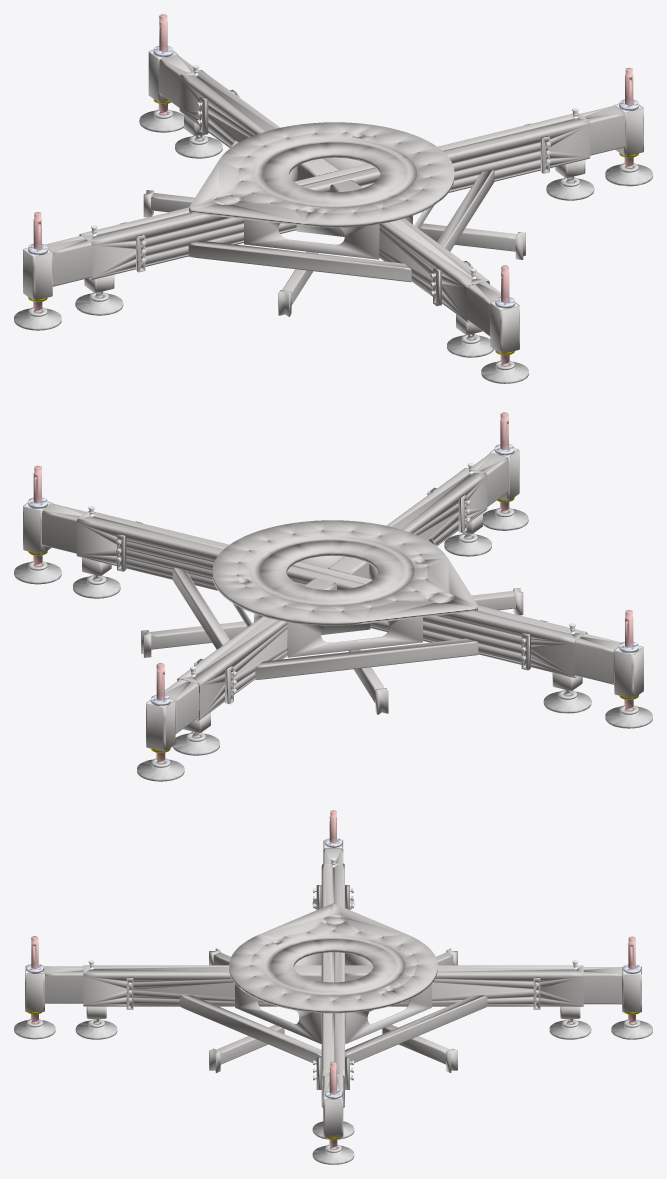
The model's file is TJA_00_FIX_PLATFORM.glb.
3 renders of one model, top to bottom at view 1: azimuth 30°, elevation 25°; view 2: azimuth 150°, elevation 25°; view 3: azimuth 270°, elevation 25°, orthographic. The views are drawn at different scales.
Visible parts, largest first — view 1: object 9, object 17, object 16, object 10, object 4, object 52, object 12, object 14, Body9, object 82, object 81, object 51 (+13 smaller); view 2: object 9, object 17, object 10, object 16, object 3, object 53, object 12, object 14, object 2, object 80, object 81, object 48 (+13 smaller); view 3: object 9, object 10, object 16, object 17, Body9, object 2, object 55, object 54, object 13, object 11, object 83, object 80 (+8 smaller).
Boxes of the visible parts, box(x1,y1,x2,y2) form: object 9: box(189, 122, 454, 227); object 17: box(79, 112, 590, 279); object 16: box(330, 180, 489, 322); object 10: box(179, 70, 338, 180); object 4: box(188, 240, 411, 282); object 52: box(244, 219, 379, 259); object 12: box(45, 236, 91, 286); object 14: box(580, 105, 624, 155); Body9: box(437, 169, 494, 251); object 82: box(490, 301, 519, 353); object 81: box(23, 248, 52, 300); object 51: box(419, 223, 516, 251); object 9: box(212, 520, 477, 625); object 17: box(76, 510, 587, 677); object 10: box(177, 578, 336, 720); object 16: box(328, 468, 487, 578); object 3: box(255, 638, 478, 680); object 53: box(287, 617, 422, 657); object 12: box(575, 634, 621, 684); object 14: box(42, 503, 86, 553); object 2: box(172, 567, 229, 649); object 80: box(146, 699, 175, 751); object 81: box(614, 646, 643, 698); object 48: box(150, 621, 247, 649); object 9: box(229, 903, 437, 1013); object 10: box(345, 965, 583, 1006); object 16: box(83, 965, 321, 1006); object 17: box(321, 863, 344, 1107); Body9: box(179, 995, 321, 1064); object 2: box(345, 995, 487, 1064); object 55: box(235, 984, 321, 1043); object 54: box(345, 984, 431, 1043); object 13: box(45, 966, 83, 1003); object 11: box(583, 967, 621, 1004); object 83: box(323, 1091, 343, 1137); object 80: box(622, 966, 641, 1012).
Bounding box in the file's own units: 3.81 × 0.6163 × 3.83.
